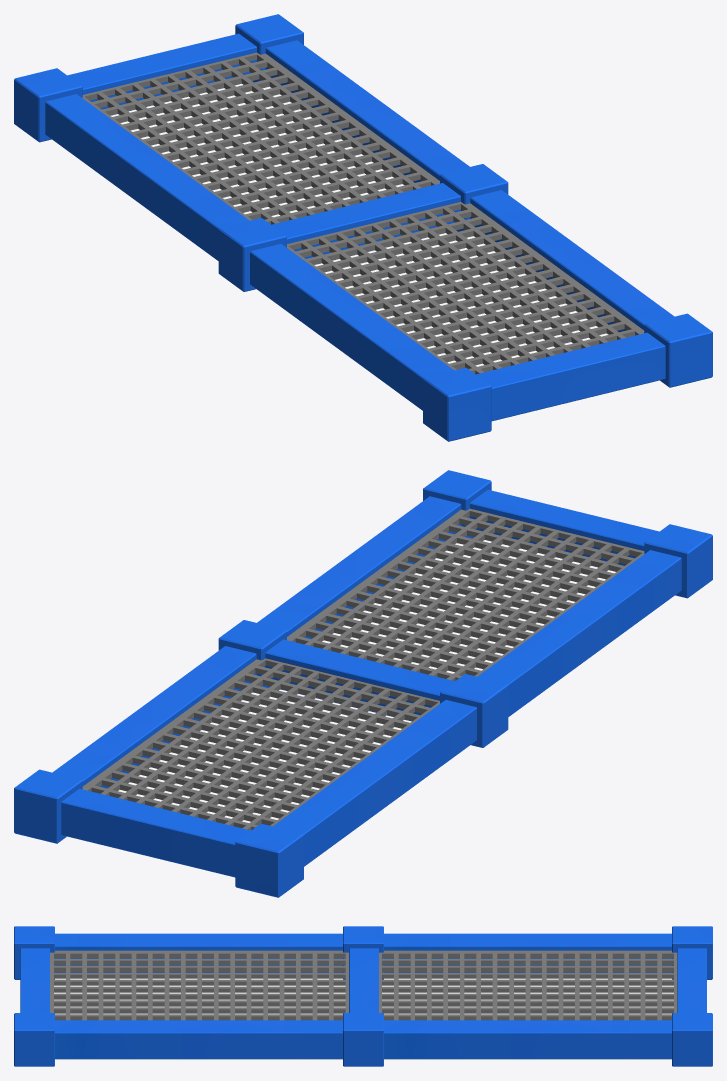
File: BridgeTwoSegmentBlue.fbx
3 renders of one model, top to bottom at view 1: azimuth 30°, elevation 25°; view 2: azimuth 150°, elevation 25°; view 3: azimuth 270°, elevation 25°, orthographic. The views are drawn at different scales.
Parts seen in each view (by area): view 1: Cube, Grate.001; view 2: Cube, Grate.001; view 3: Cube, Grate.001.
Part boxes in pixels (bbox=[...]): Cube: bbox=[14, 14, 712, 441]; Grate.001: bbox=[82, 52, 644, 374]; Cube: bbox=[14, 470, 712, 897]; Grate.001: bbox=[82, 508, 644, 830]; Cube: bbox=[14, 926, 712, 1066]; Grate.001: bbox=[50, 950, 677, 1020].
Size of the model in its own units: 6 by 1 by 17.
